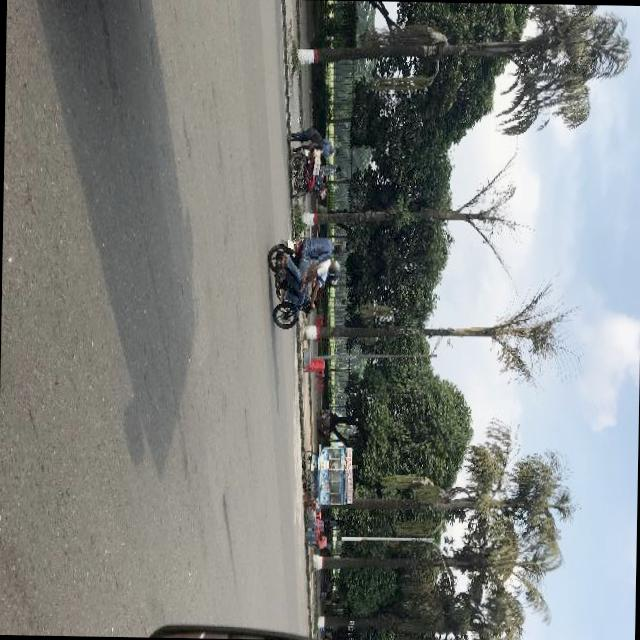motorcycle: (264, 232, 342, 331), (285, 148, 326, 203)
